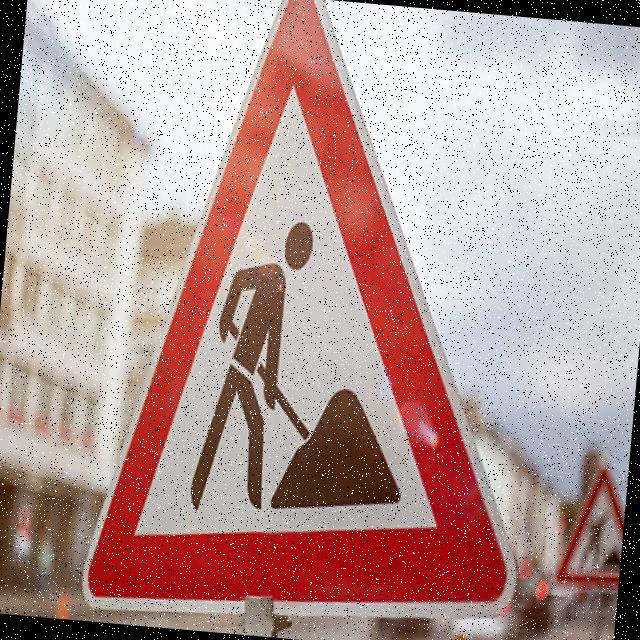road_work: (84, 0, 563, 625), (550, 463, 628, 594)
